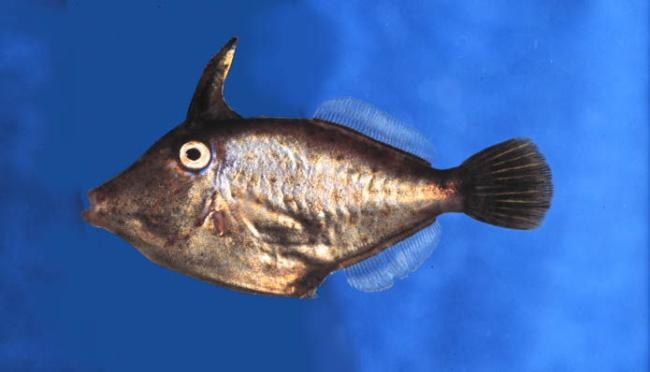fish: (84, 38, 556, 300)
